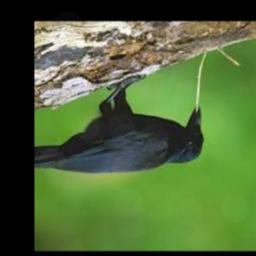Crow: (34, 74, 204, 174)
